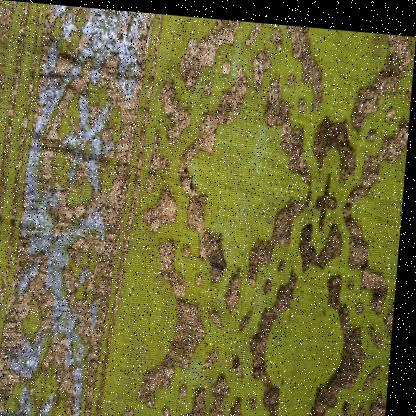spot: (210, 217, 234, 277)
